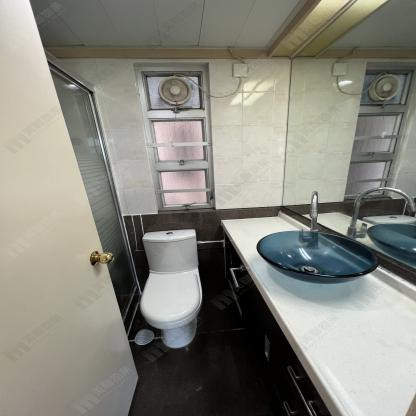Exhaust Fan: (156, 76, 195, 110)
Faucet: (304, 188, 324, 231)
Toilet: (140, 229, 202, 348)
Toilet Sink: (258, 231, 377, 285)
